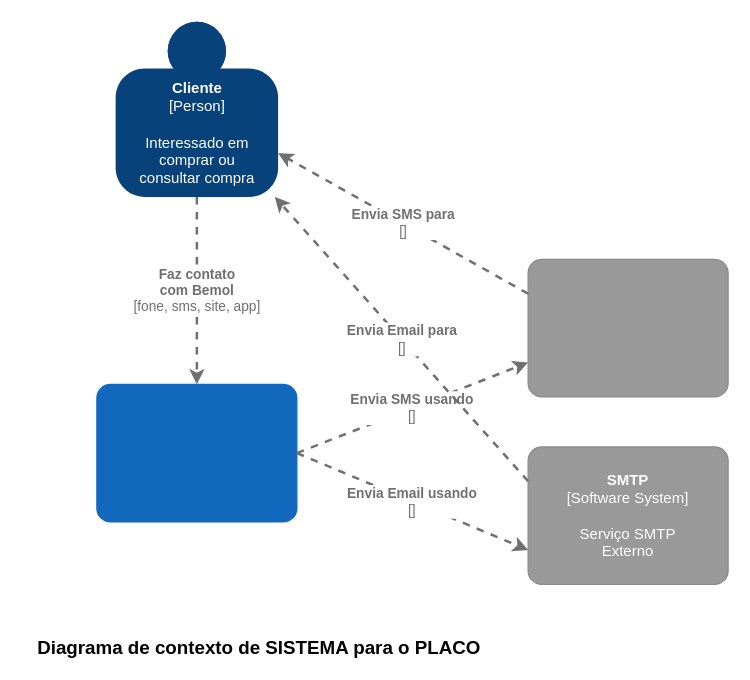
Some shapes in this 750 by 680 pixel diagram are drawn without their labels. The centre of each missing label's shape, as x and y in pixels:
PLACO [Software System] Plataforma de Atendimento ao Cliente OmniChannel: (x=196, y=452)
SMS [Software System] Serviço externo de envio de SMS: (x=627, y=327)
